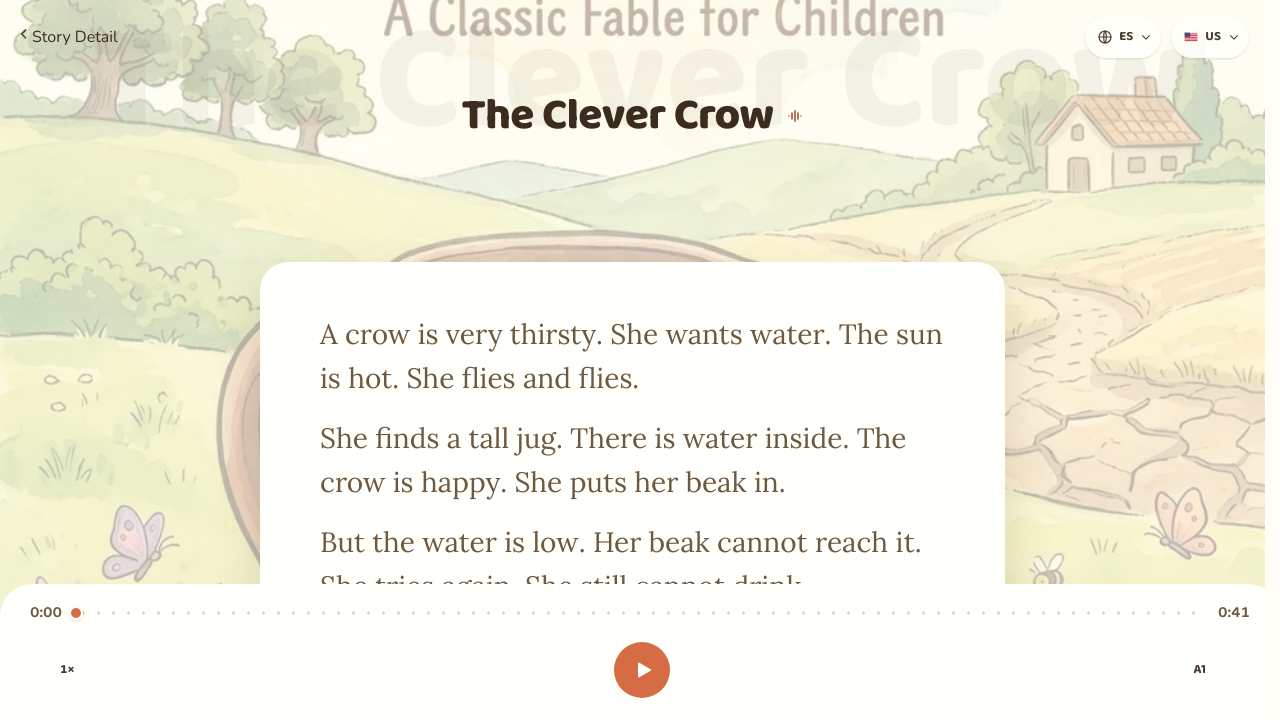
Test case: ReaderScreen › switches the translation language for the block and the popover
The width and height of the screenshot is (1280, 720).
Check: the heading "The Clever Crow" is shown, box left=462, top=90, right=804, bottom=142
Step 1. Click the button named "Translation language" → [1123, 37], box left=1085, top=16, right=1161, bottom=58
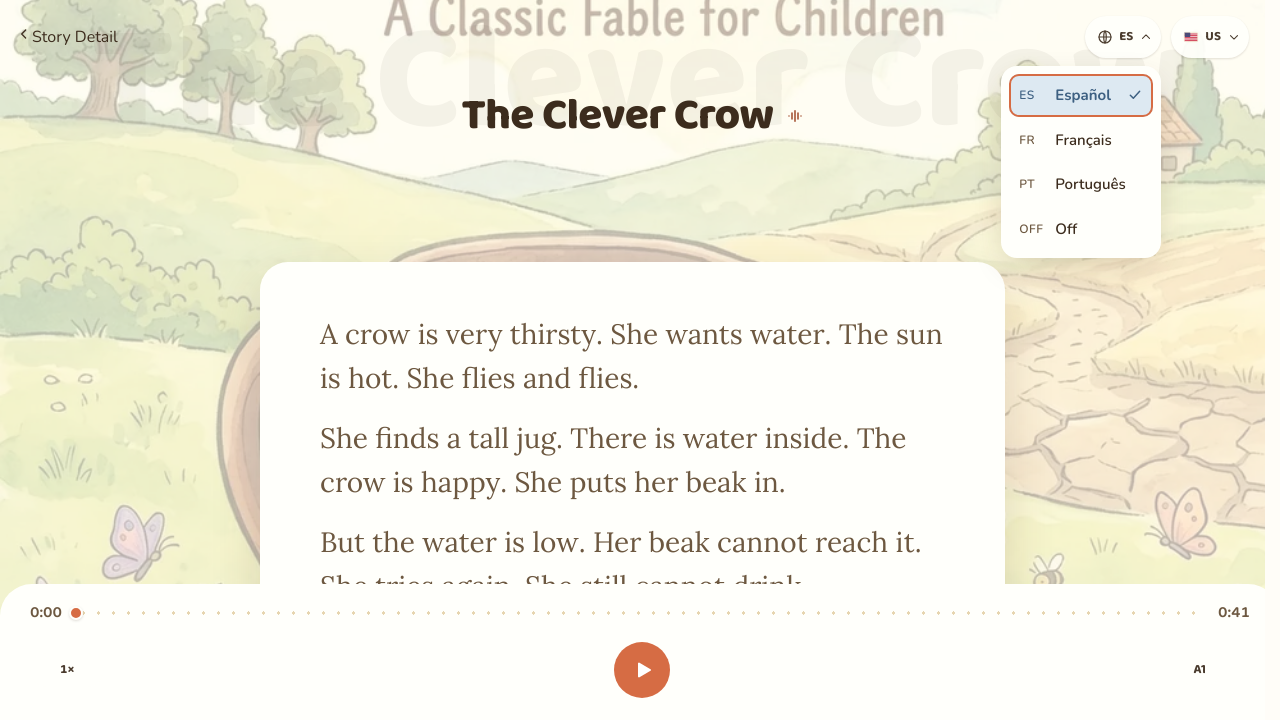
Step 2. Click the menu item "FR Français" → [1081, 140], box left=1009, top=118, right=1153, bottom=161
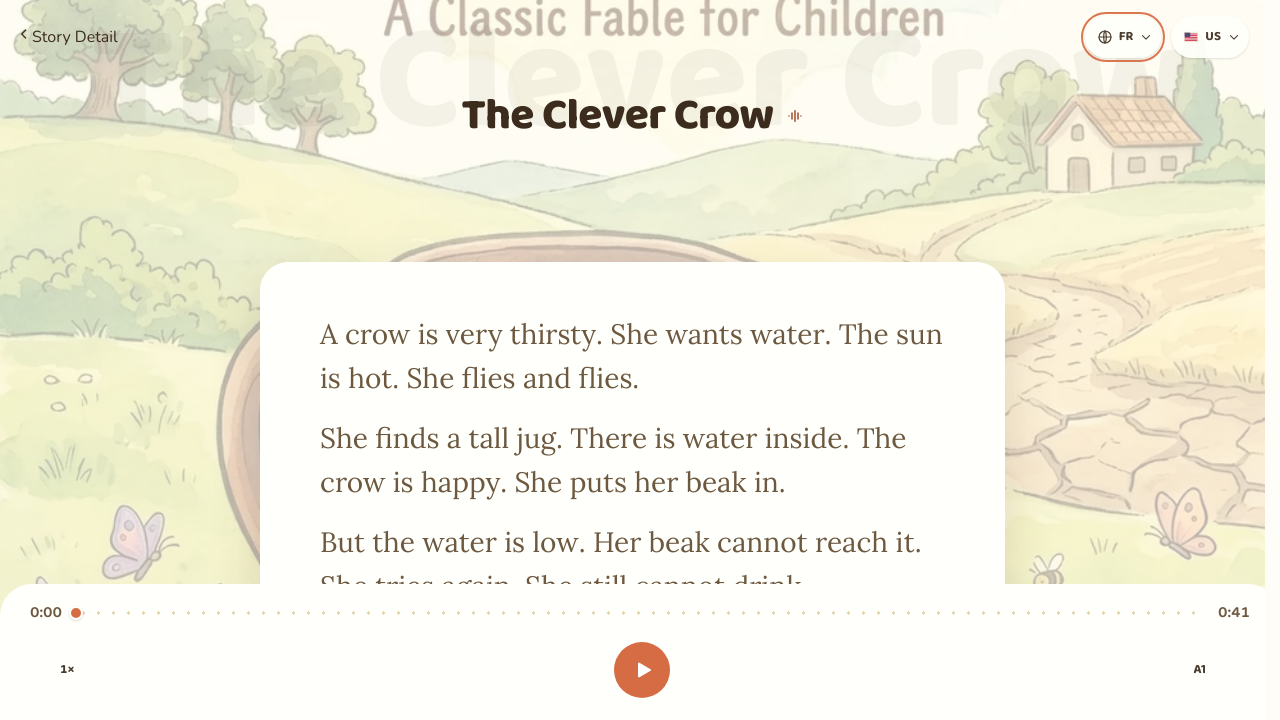
// The tap-a-word popover now resolves the meaning in French too.
Step 3. Click the button "sun" → [919, 334], box left=896, top=312, right=943, bottom=356
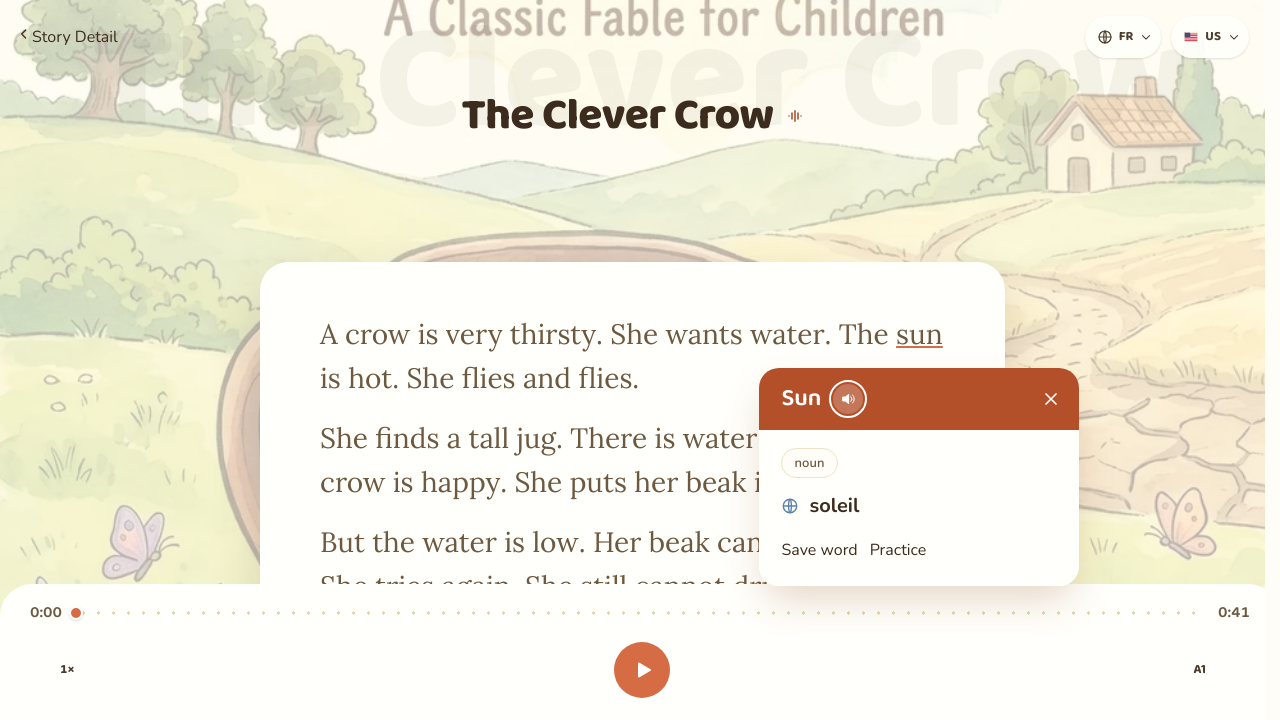
Check: the text "soleil" is shown, box left=809, top=492, right=859, bottom=520
